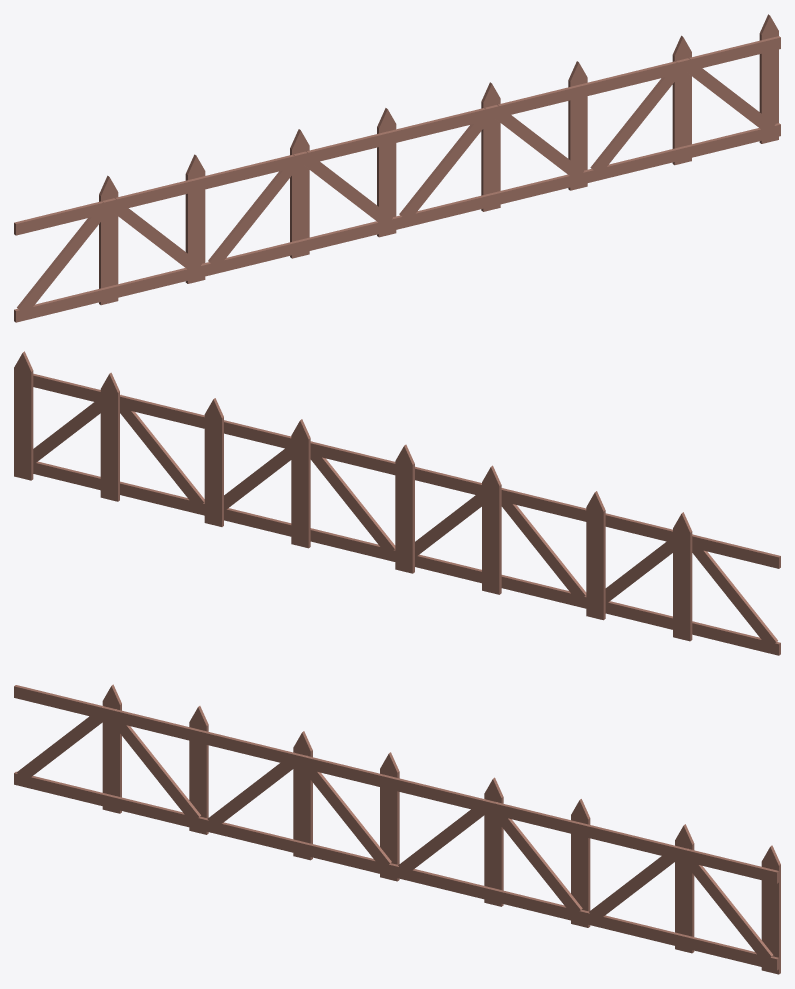
The model's file is wood barrier.fbx.
3 renders of one model, top to bottom at view 1: azimuth 30°, elevation 25°; view 2: azimuth 150°, elevation 25°; view 3: azimuth 330°, elevation 25°, orthographic.
Visible parts, largest first — view 1: Cube; view 2: Cube; view 3: Cube.
Part boxes in pixels (x1=…): Cube: x1=14, y1=14, x2=780, y2=322; Cube: x1=14, y1=351, x2=780, y2=655; Cube: x1=14, y1=684, x2=780, y2=974.
Bounding box in the file's own units: 440 × 69.39 × 4.07.
